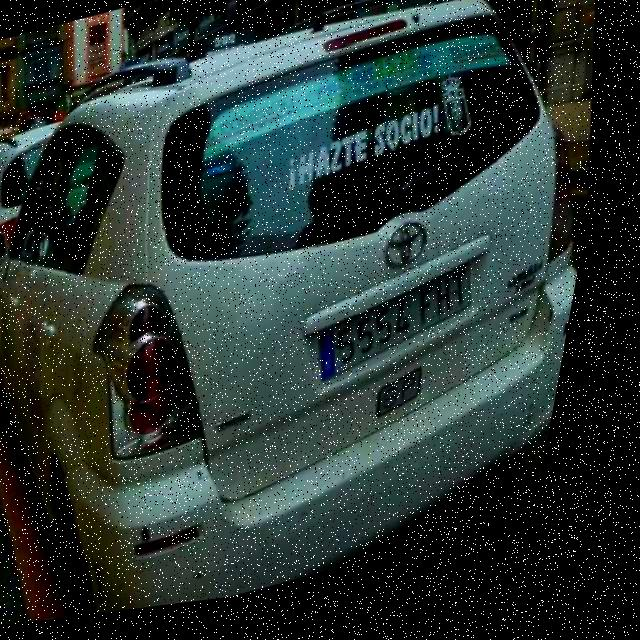license_plate: (320, 274, 497, 394)
